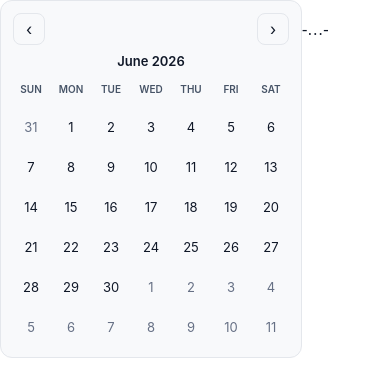
Test: DateRangePicker › auto-orders when the second click is earlier than the first
The width and height of the screenshot is (367, 375).
Click the cell "20". click: [271, 207]
box: [253,189,289,225]
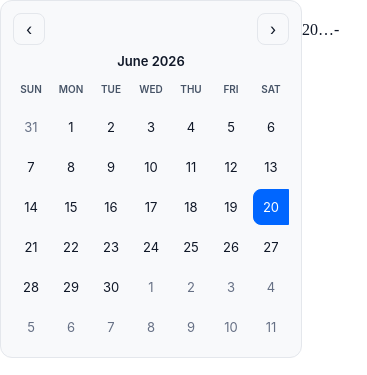
Click the 1st cell "10". click: [151, 167]
box: [133,149,169,185]
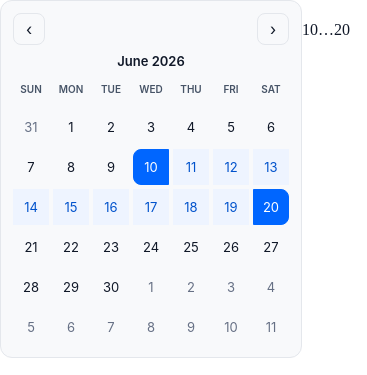
expect the text with test id "state" reads "10…20": met, box [302,21,350,38]
